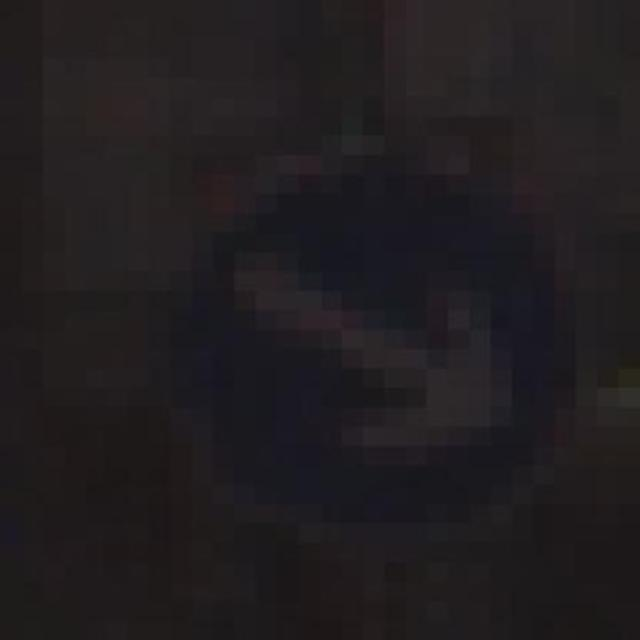Keep-Right: (149, 135, 597, 543)
